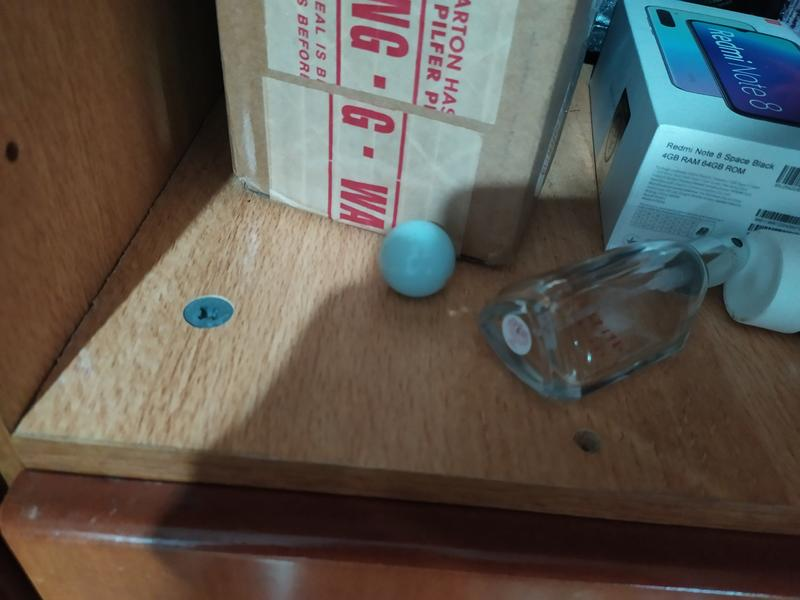Warning: (375, 216, 460, 303)
